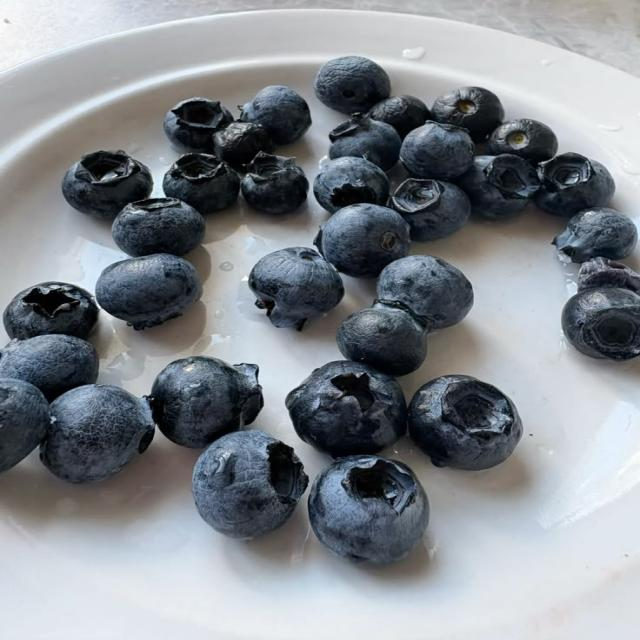blueberry: (308, 456, 429, 563), (193, 430, 307, 539), (286, 362, 406, 457), (40, 384, 153, 483), (409, 375, 522, 470), (151, 357, 263, 447), (96, 254, 201, 329), (248, 247, 344, 329), (314, 204, 410, 277), (377, 256, 473, 329), (0, 334, 98, 402), (337, 301, 426, 375), (62, 151, 153, 219), (562, 286, 639, 361), (3, 282, 98, 339), (113, 198, 205, 256), (458, 154, 539, 219), (534, 153, 615, 217), (390, 179, 471, 240), (0, 378, 50, 473), (163, 154, 239, 214), (553, 208, 637, 262), (314, 56, 390, 114), (400, 122, 474, 180), (314, 157, 389, 213), (242, 151, 308, 214), (240, 86, 311, 144), (329, 116, 401, 171), (432, 87, 504, 141), (164, 98, 233, 152), (487, 119, 558, 163), (214, 122, 274, 171), (367, 95, 430, 138), (578, 257, 639, 294)
